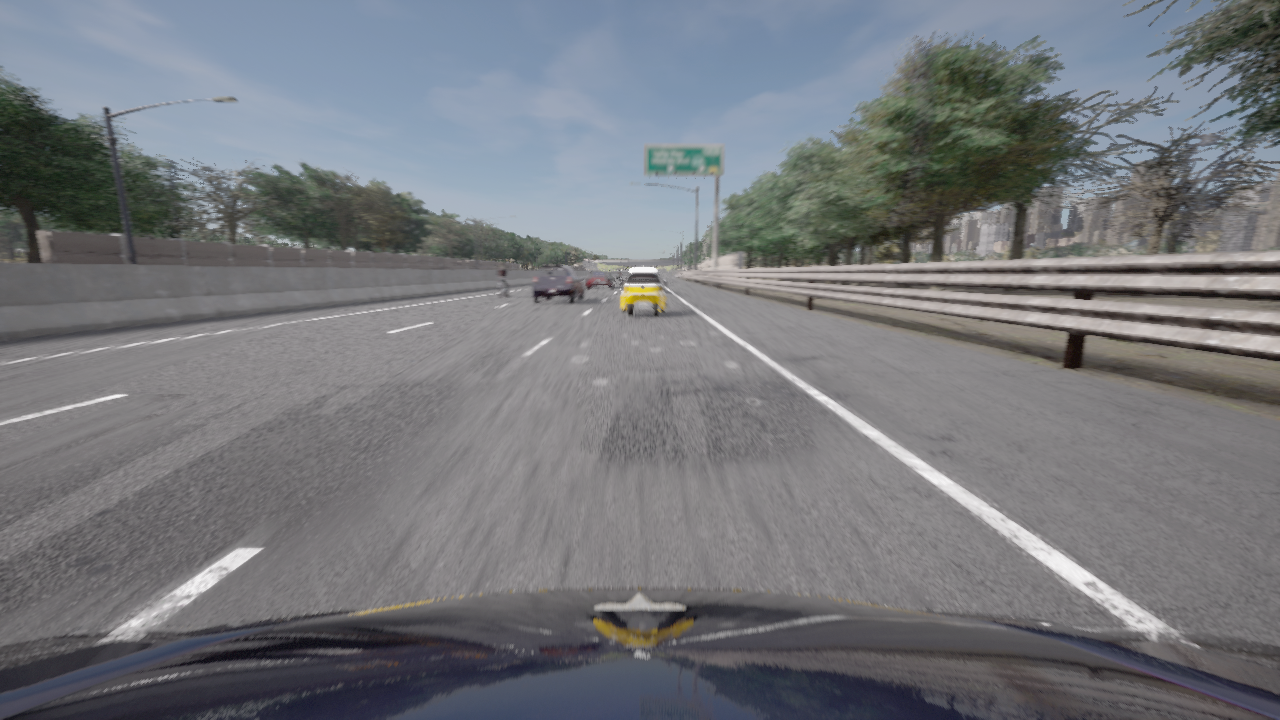cyclist: (0, 588, 1279, 719), (619, 267, 666, 316), (532, 265, 583, 303), (586, 270, 613, 287), (498, 281, 505, 297), (617, 273, 620, 280)
